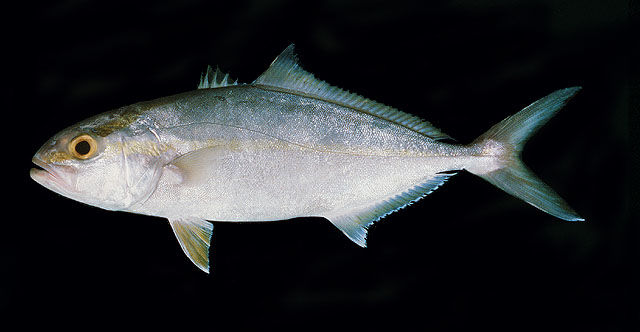fish: (29, 42, 587, 274)
